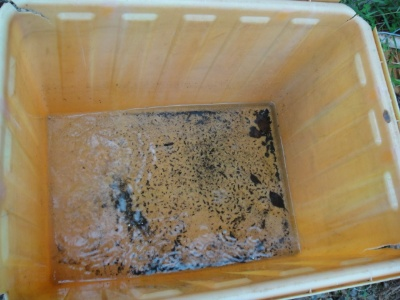box: (1, 1, 400, 298)
